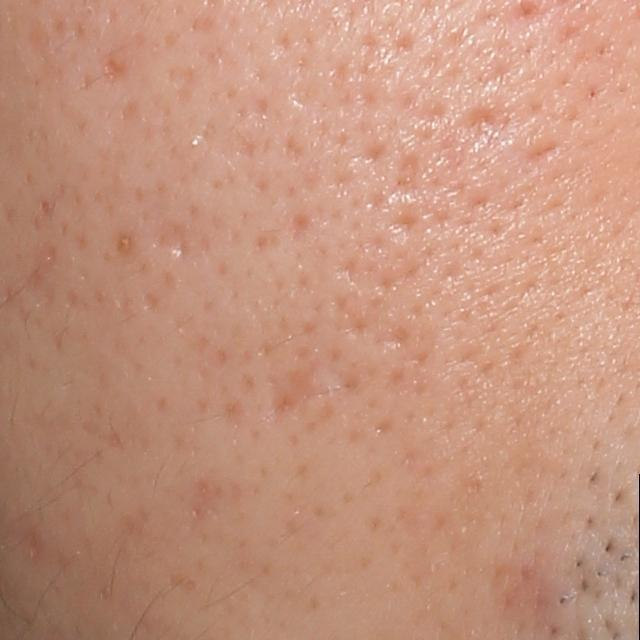atrophic_scar: (273, 356, 323, 422), (458, 104, 506, 146), (147, 218, 192, 260), (397, 143, 424, 192), (104, 53, 131, 84)
